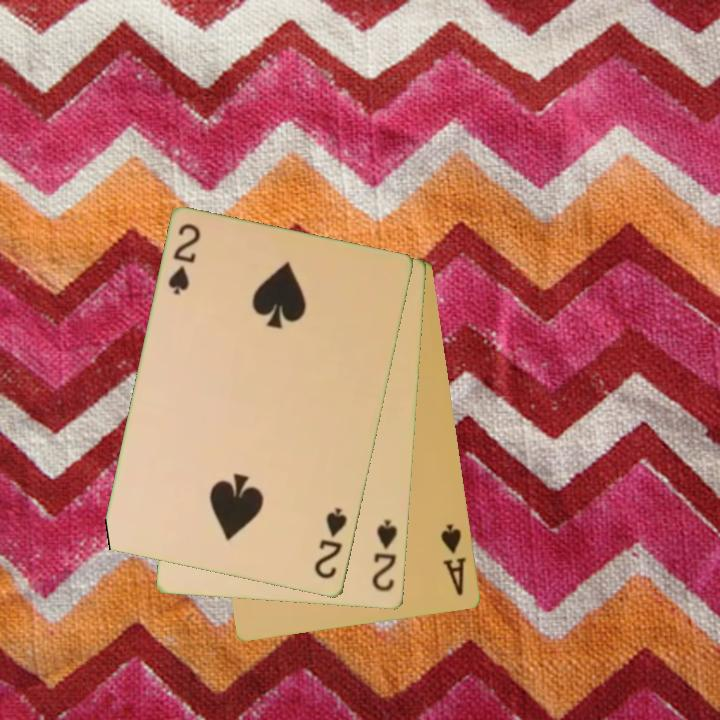2s: (311, 504, 351, 582), (165, 220, 204, 299), (369, 516, 401, 595)
As: (437, 521, 470, 599)
